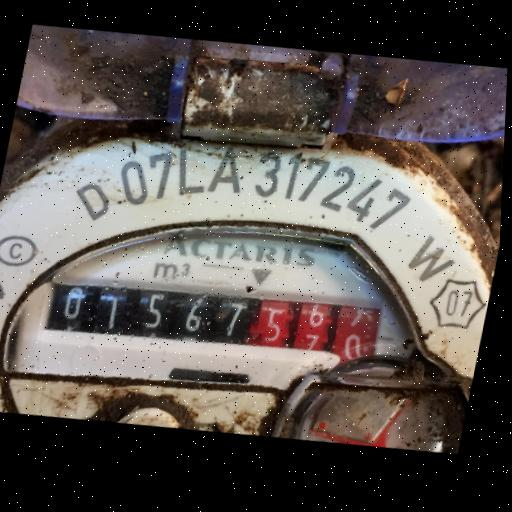0: (328, 301, 377, 364), (53, 282, 88, 333)
1: (92, 282, 130, 335)
5: (252, 296, 291, 350), (131, 287, 170, 340)
6: (292, 299, 330, 352), (177, 289, 210, 342)
7: (211, 293, 248, 345)
border_water_meter_number: (36, 254, 386, 392)
